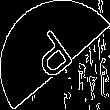P_SE: (28, 24, 82, 86)
